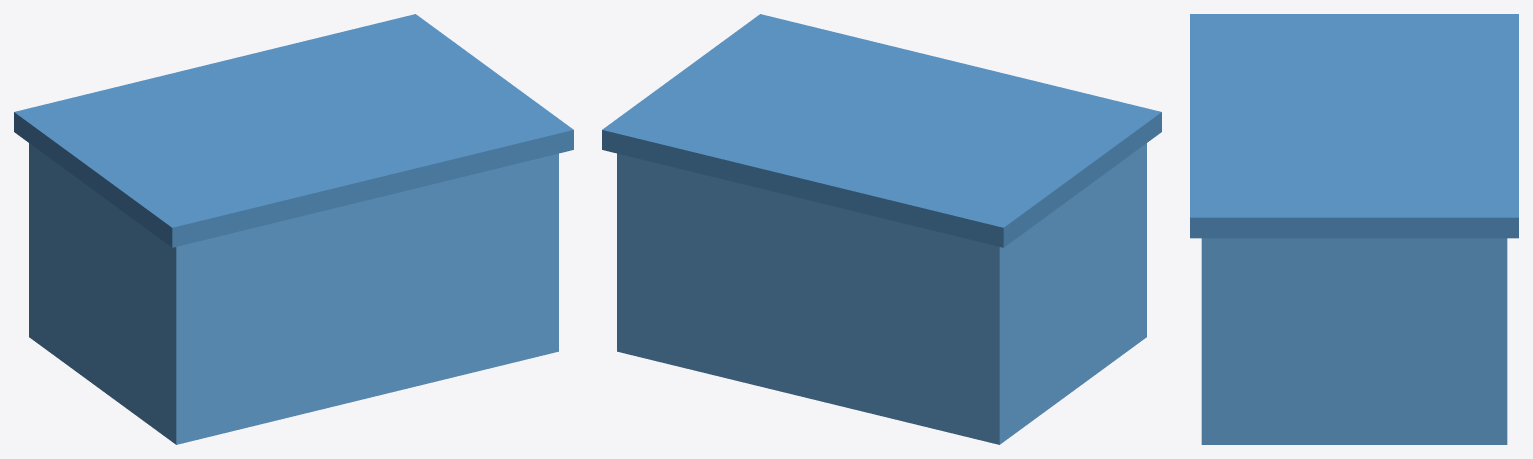
The model's file is tote.glb.
The picture shows the model from 3 angles, left to right: view 1: azimuth 30°, elevation 25°; view 2: azimuth 150°, elevation 25°; view 3: azimuth 270°, elevation 25°; orthographic projection. The views are drawn at different scales.
Visible parts, largest first — view 1: tote.glb; view 2: tote.glb; view 3: tote.glb.
Part boxes in pixels (left/top/right/bottom): tote.glb: left=14, top=14, right=573, bottom=444; tote.glb: left=602, top=14, right=1161, bottom=444; tote.glb: left=1190, top=14, right=1518, bottom=444.
Bounding box in the file's own units: 0.63 × 0.335 × 0.43.
